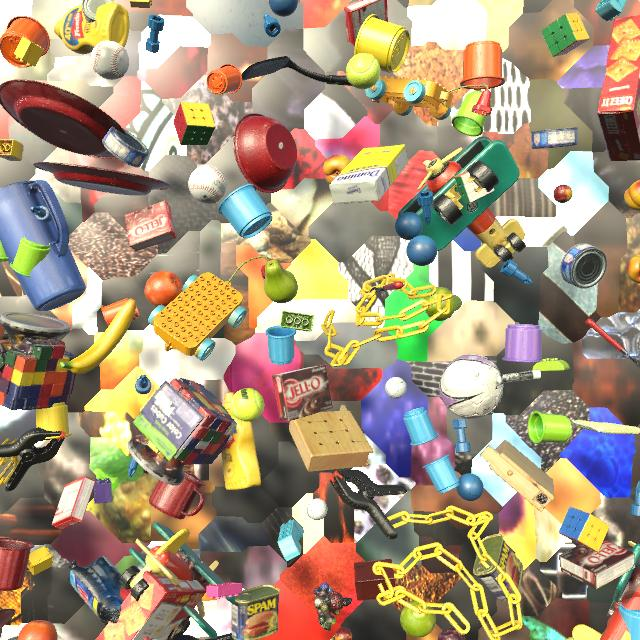ycb_003_cracker_box: (95, 570, 206, 640), (597, 15, 640, 161)
ycb_004_sugar_box: (329, 144, 408, 204)
ycb_005_tomato_soup_can: (81, 0, 114, 23)
ycb_006_mustard_bottle: (221, 392, 261, 490), (54, 3, 129, 54)
ycb_007_tuna_fish_can: (560, 243, 607, 288), (102, 127, 149, 168), (531, 127, 578, 149), (8, 636, 18, 640)
ycb_008_pudding_box: (559, 539, 635, 590), (272, 364, 333, 421)
ycb_009_gelatin_box: (125, 201, 177, 251), (52, 476, 95, 530), (344, 0, 388, 46)
ycb_010_potted_meat_can: (473, 534, 523, 601), (232, 585, 280, 640)
ycb_011_banana: (60, 299, 136, 374)
ycb_015_peach: (323, 154, 351, 184), (624, 180, 640, 211), (626, 255, 640, 284)
ycb_016_pear: (264, 260, 298, 303), (400, 600, 436, 637), (424, 287, 462, 321)
ycb_017_orange: (145, 271, 183, 307), (18, 620, 58, 640), (0, 324, 5, 340)
ycb_018_plum: (438, 627, 466, 640)
